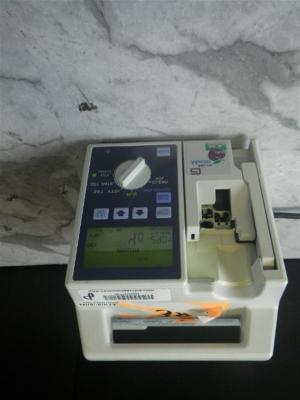plumxl1: (68, 132, 288, 365)
